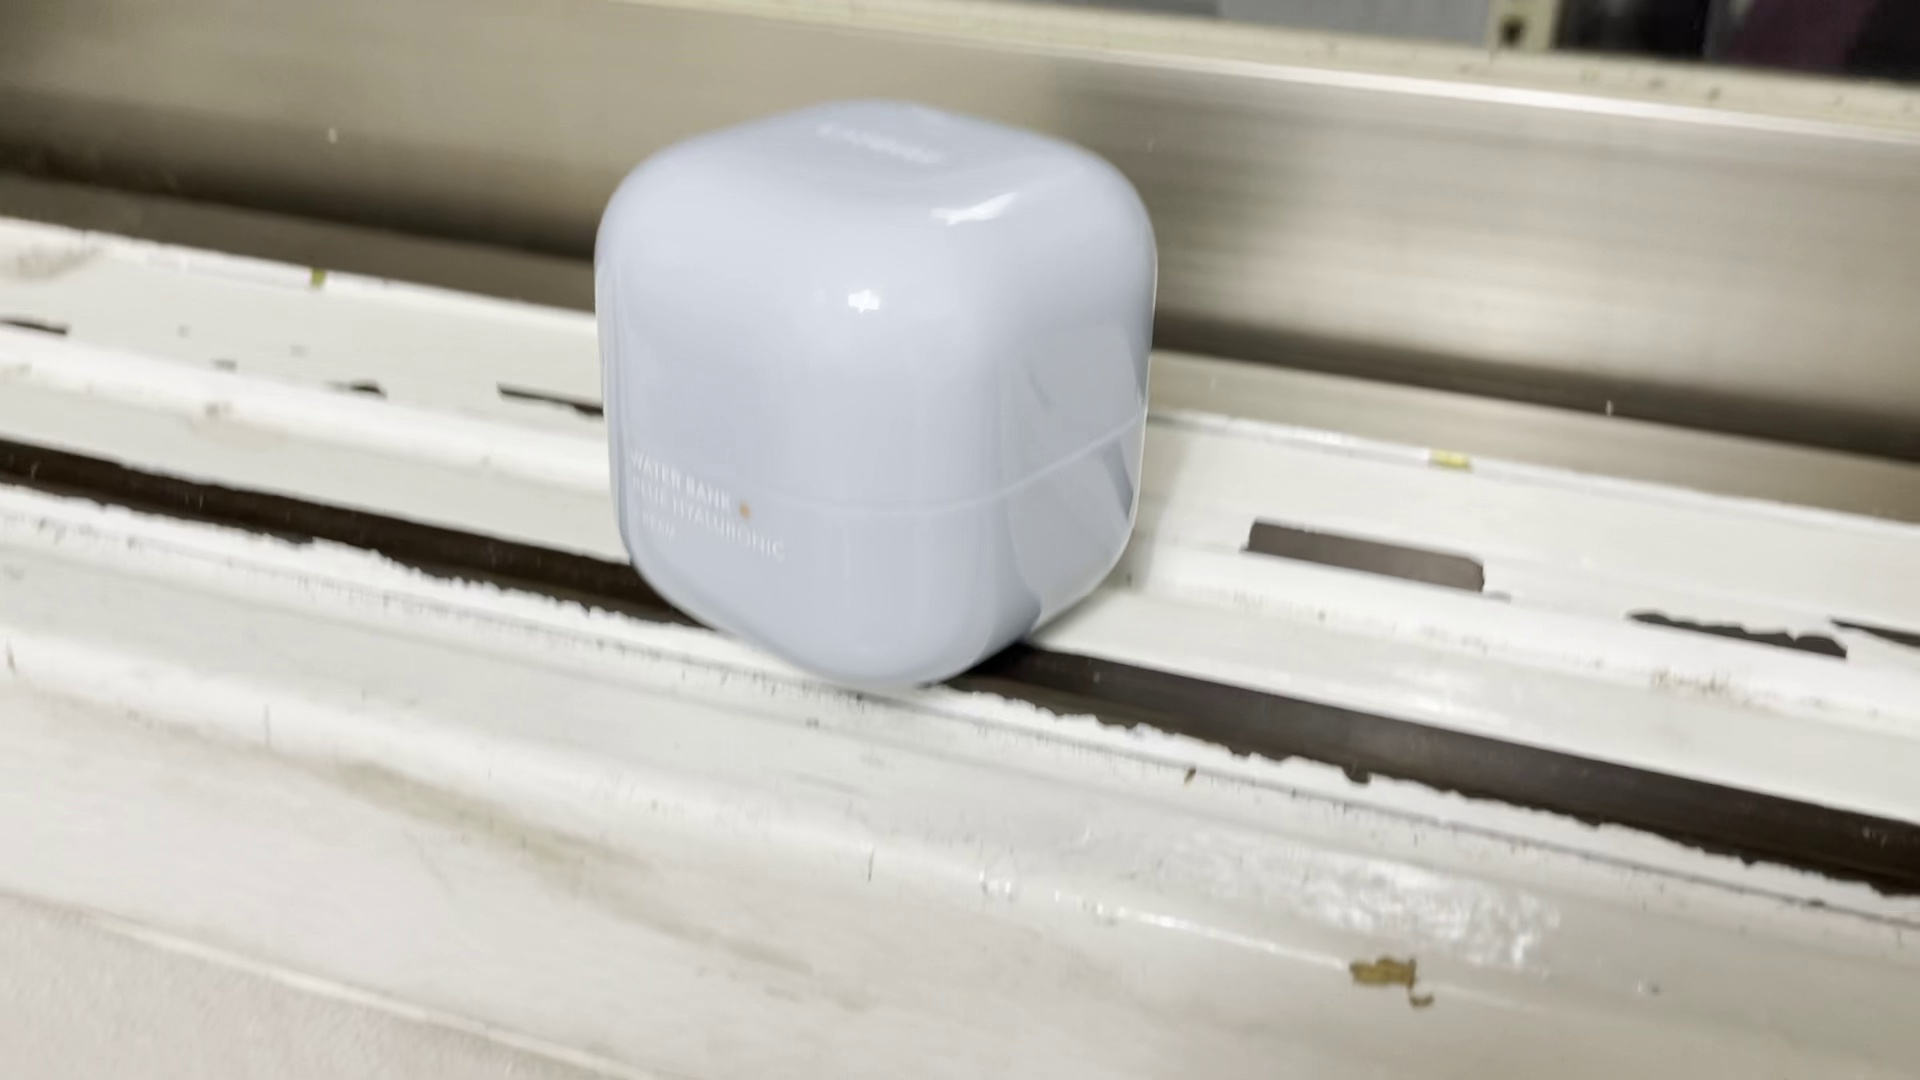cream: (603, 99, 1160, 678)
